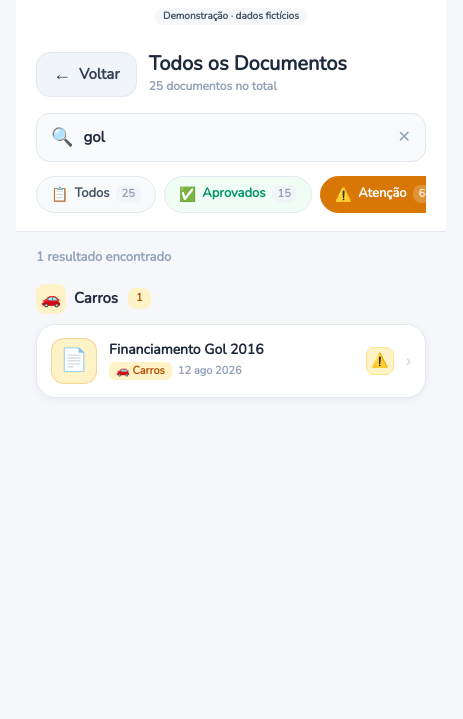
Test: fluxos React › aplica query string de filtro e busca e limpa estado vazio
The image size is (463, 719).
Expected: the text "Financiamento Gol 2016" is shown, [109,340,264,359]
Expected: the text "Seguro Gol 2016" is not shown
Clear the field named "Buscar documento" at [236, 137], box [84,126,388,148]
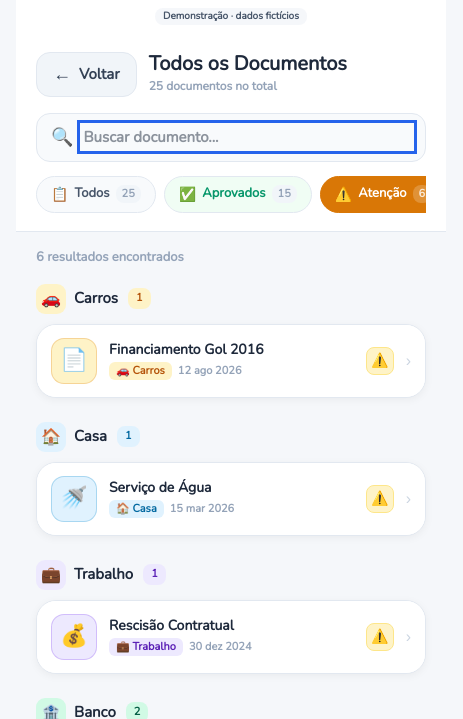
Type "inexistente" into the field labelled "Buscar documento".
click(247, 137); type("inexistente")  # box [84,126,411,148]
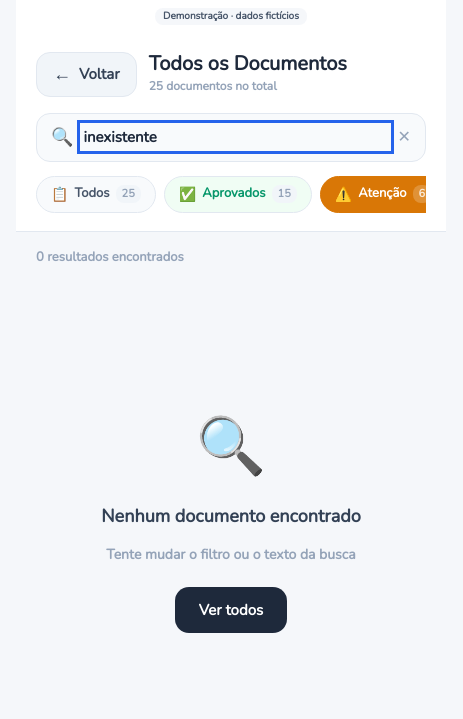
Expected: the text "Nenhum documento encontrado" is shown, [101,502,361,530]
Click the button "Ver todos".
click(231, 610)  # box [175,586,287,633]
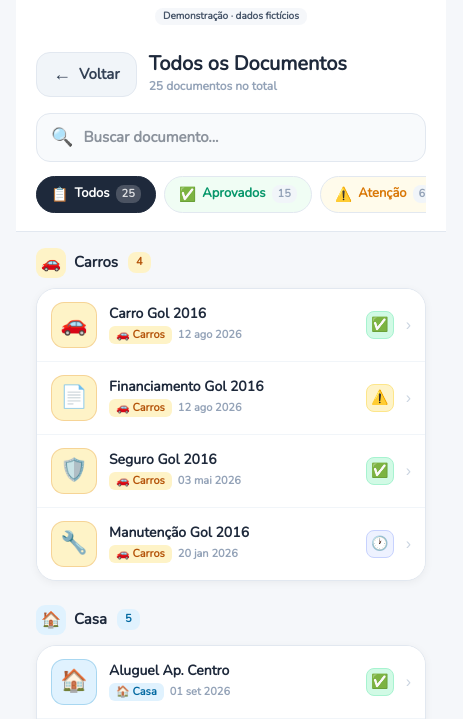
Expected: the text "Carro Gol 2016" is shown, [109,304,206,323]
